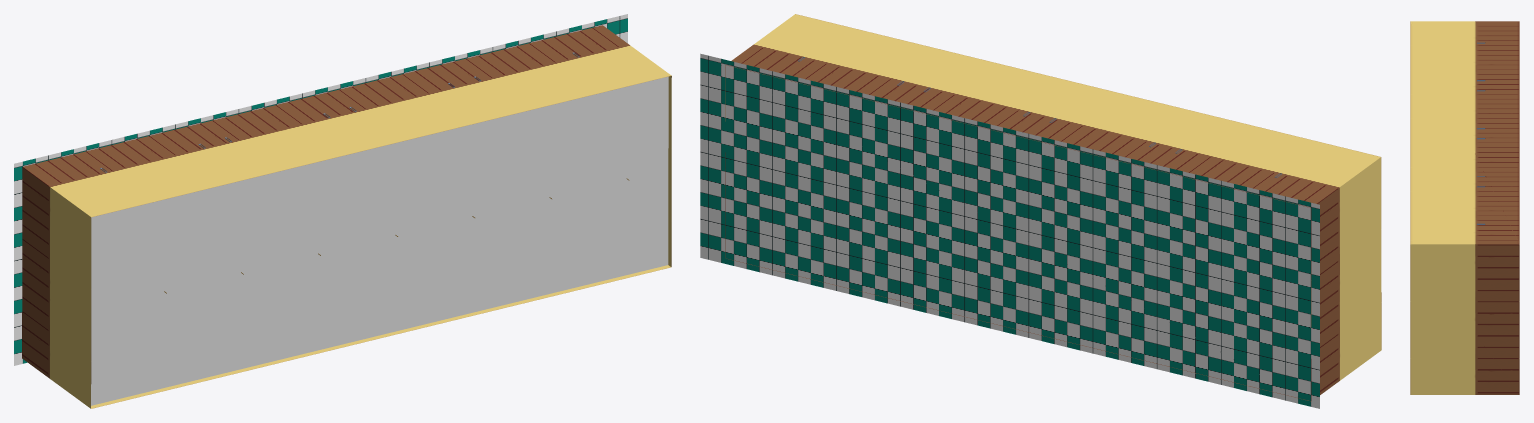
The model's file is PisoDef.fbx.
3 renders of one model, left to right at view 1: azimuth 30°, elevation 25°; view 2: azimuth 150°, elevation 25°; view 3: azimuth 270°, elevation 25°, orthographic. The views are drawn at different scales.
Visible parts, largest first — view 1: Plane.001, Plane, Plane.002; view 2: Plane.002, Plane; view 3: Plane, Cylinder.001.
Boxes of the visible parts, bbox=[...] form: Plane.001: bbox=[91, 76, 668, 405]; Plane: bbox=[22, 25, 671, 408]; Plane.002: bbox=[14, 14, 627, 365]; Plane.002: bbox=[700, 53, 1319, 408]; Plane: bbox=[725, 14, 1381, 401]; Plane: bbox=[1410, 21, 1519, 394]; Cylinder.001: bbox=[1477, 42, 1485, 224].
Size of the model in its own units: 19.33 by 6.09 by 3.78.
